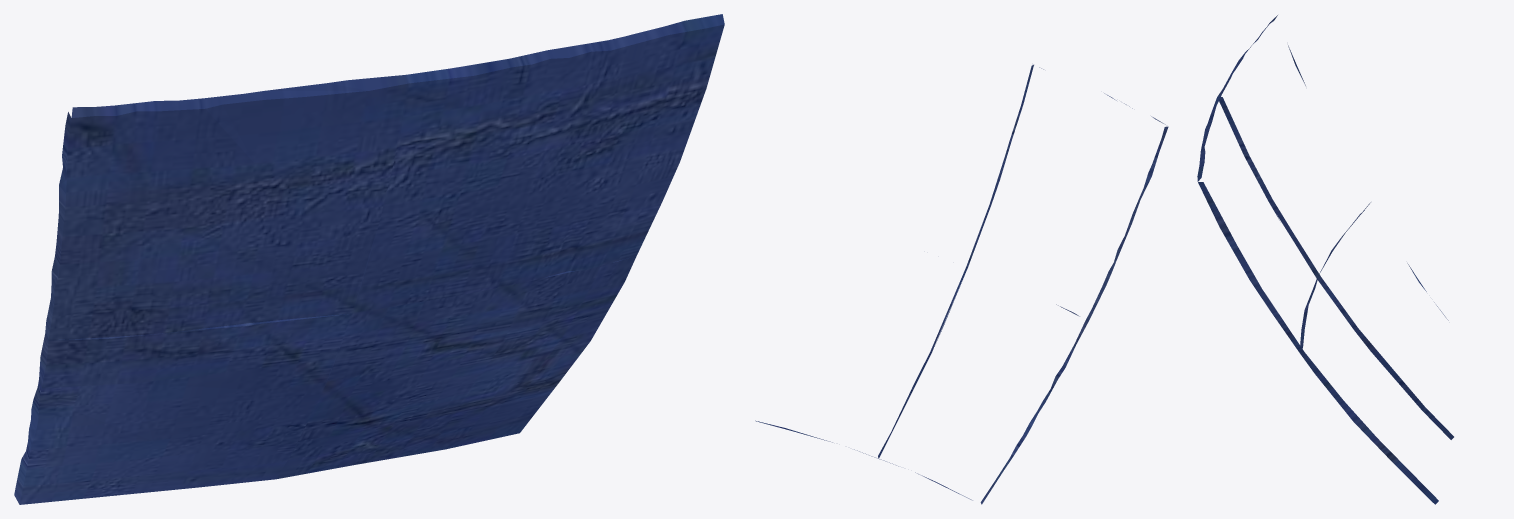
3 views of the same model, side by side, from view 1: azimuth 30°, elevation 25°; view 2: azimuth 150°, elevation 25°; view 3: azimuth 270°, elevation 25° (orthographic). The views are drawn at different scales.
Bounding box in the file's own units: 2285777 × 2102763 × 1757753.
1 material, 1 textured.
